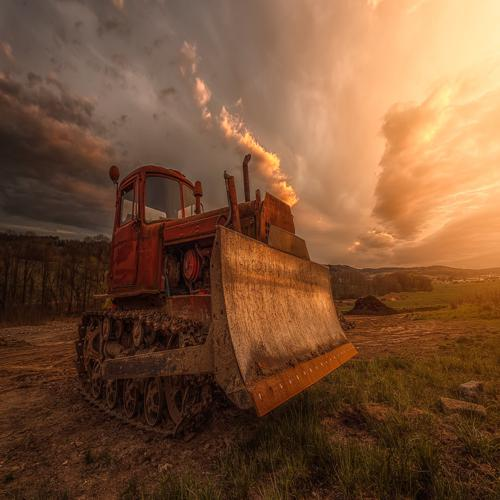con_eq: (73, 160, 361, 444)
